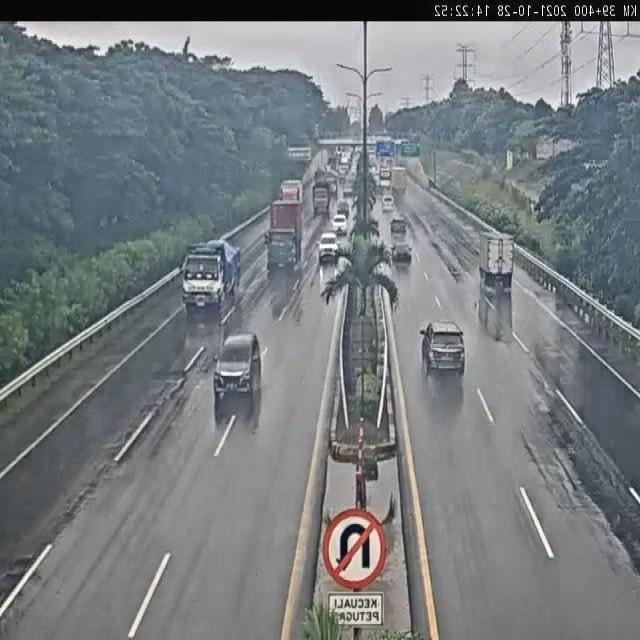Bus: (380, 170, 391, 190)
Car: (212, 330, 262, 414), (421, 320, 467, 381), (318, 232, 338, 262), (391, 242, 413, 265), (332, 213, 348, 236), (336, 199, 349, 218), (339, 164, 349, 180), (343, 184, 353, 200)
Truck: (182, 238, 242, 318), (268, 181, 305, 271), (480, 232, 516, 291), (312, 172, 336, 216), (391, 166, 408, 197)
Van: (381, 195, 394, 212)
